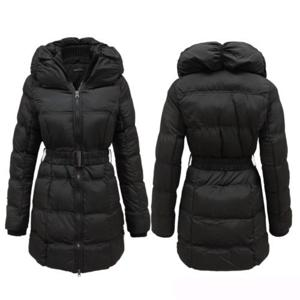C_jacket: (1, 32, 152, 279), (145, 35, 292, 276)
